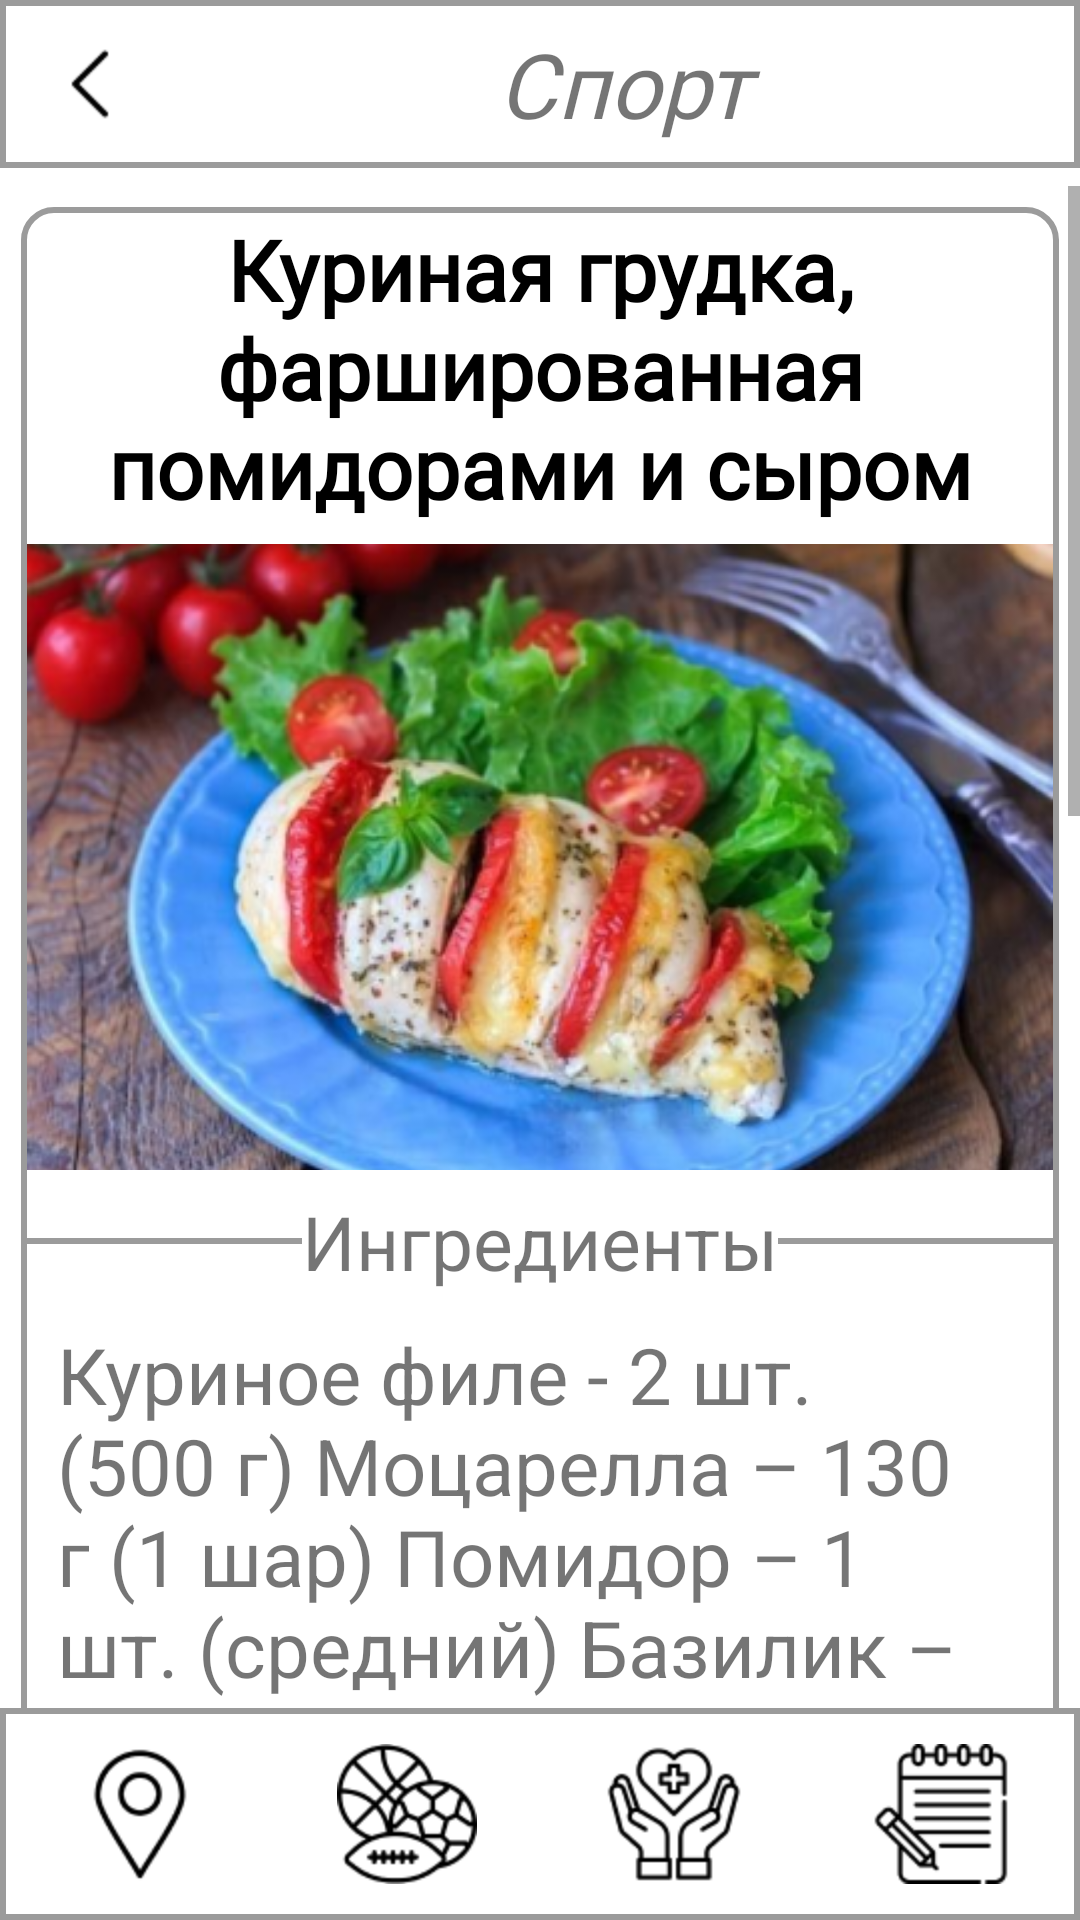

Icons on this 1080 × 1920 Android screen, each with its box as box(x1, y1, x2, y2):
Добавить заметку: box(807, 1714, 1074, 1914)
Здоровье: box(607, 1747, 741, 1881)
Карта магазинов: box(6, 1714, 273, 1914)
Спорт: box(337, 1744, 477, 1884)
